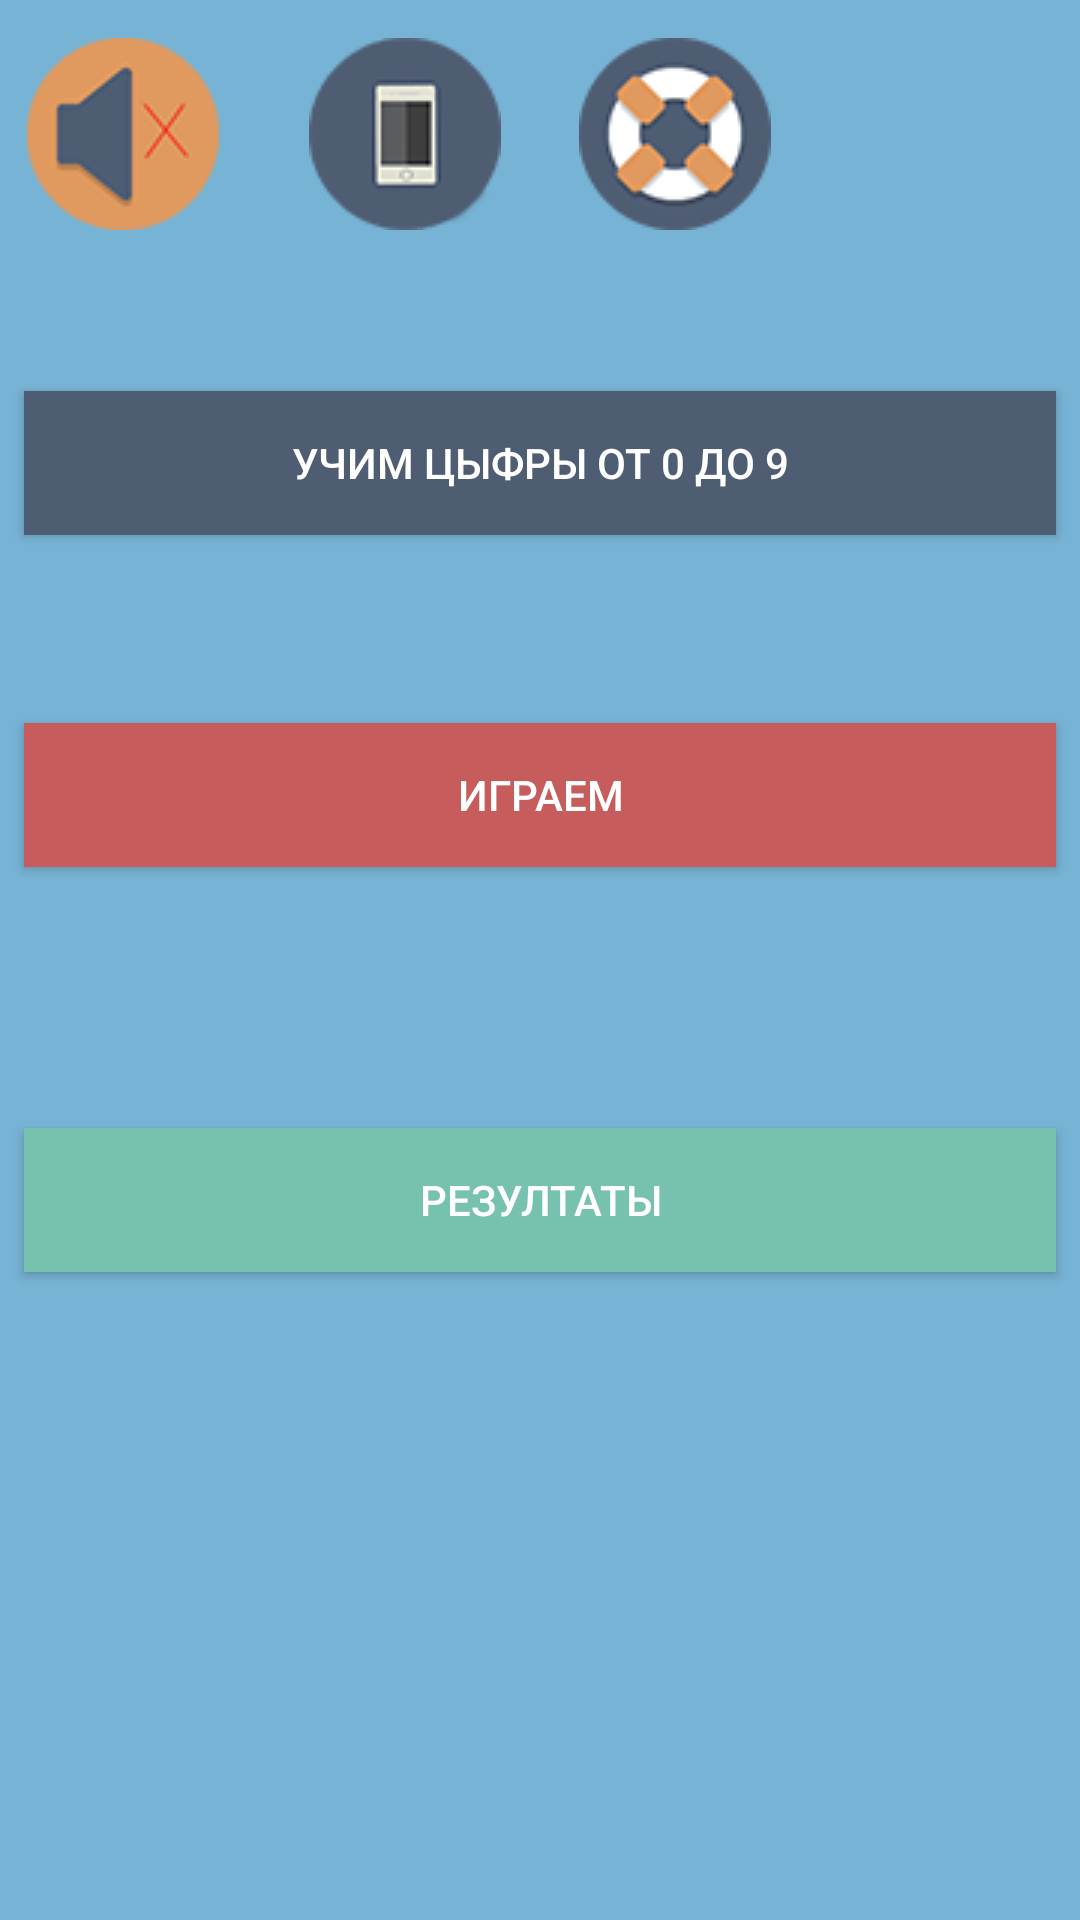

Icon click points for this 1080w x 1920h phone screenshot, format (x=x, y=y):
support: (x=675, y=134)
